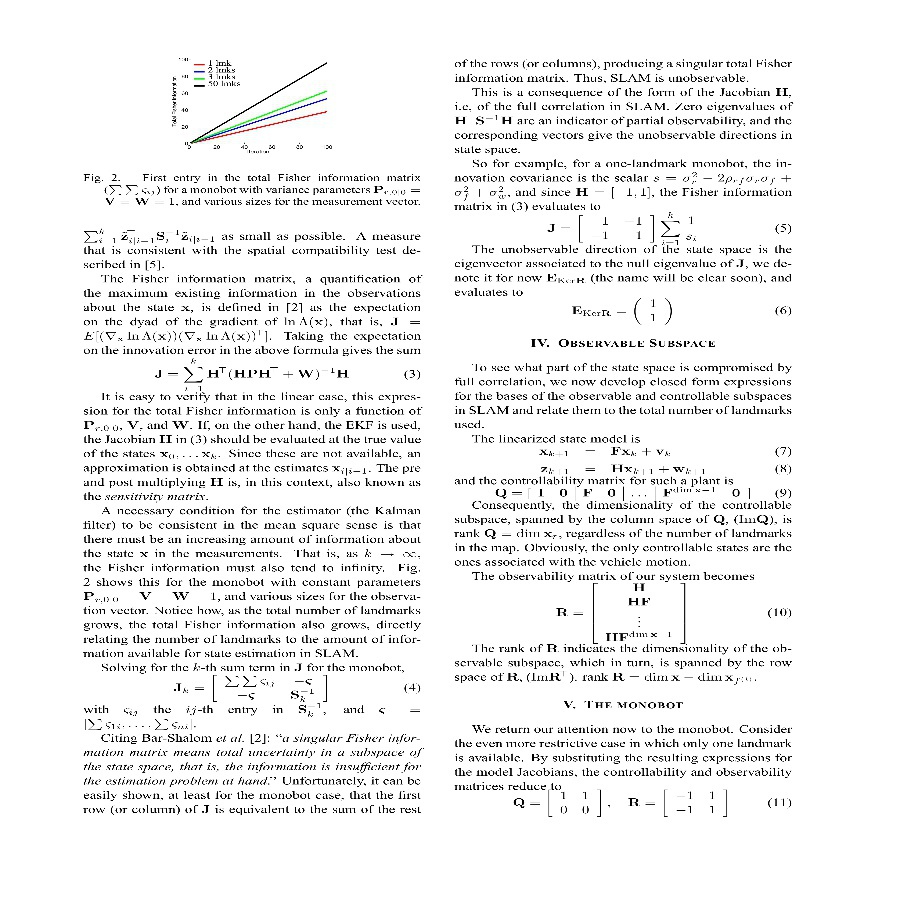eq: (555, 581, 704, 643), (508, 789, 738, 823), (545, 210, 704, 247), (147, 359, 354, 387), (564, 289, 683, 328), (172, 672, 333, 700), (540, 461, 710, 475), (535, 444, 674, 458)
